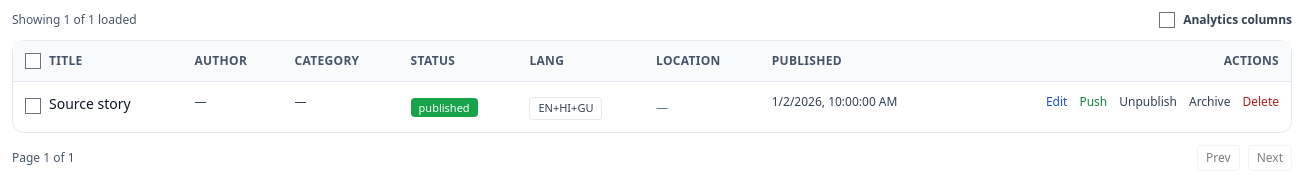
Test: Manage News lifecycle actions › unpublishes via the dedicated operation and immediately removes the stale Published row after refresh
What coordinates should you click on to do the following:
click the button "Unpublish"
I would click on:
 (1148, 102)
Its box is [1119, 94, 1177, 110].
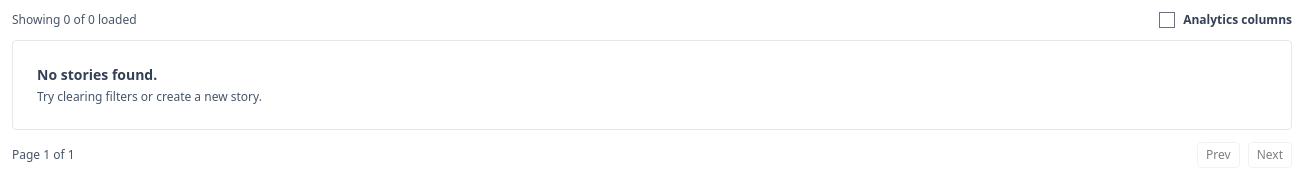
Expected: the text "No stories found." is shown, [37, 65, 157, 84]
